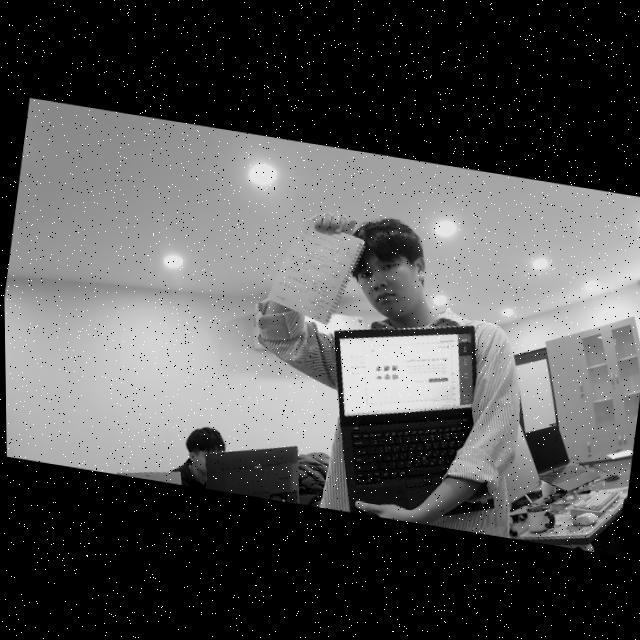document: (267, 218, 365, 326)
face: (354, 243, 419, 319)
